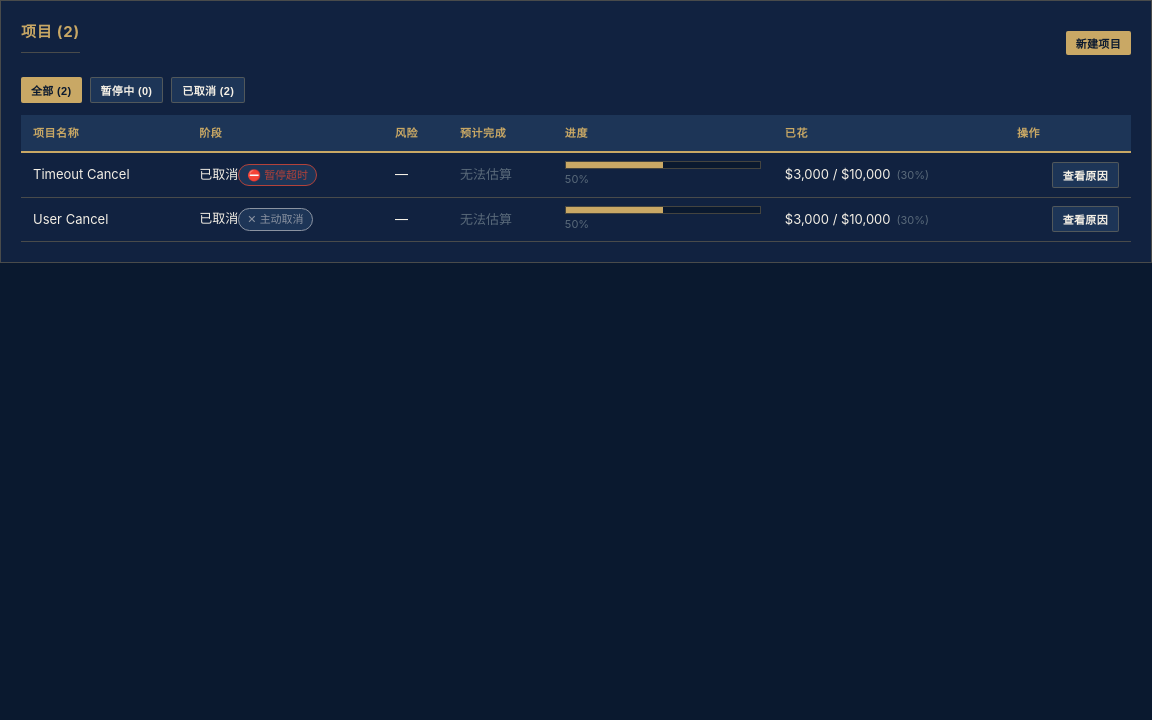
TASK-M1.1-UI-001 取消原因弹窗 › 从列表打开超时取消：代码 pause_timeout、仅一个关闭按钮、Esc 可关
Click the button "查看原因" in the row of "Timeout Cancel": x=1085, y=175 [1052,162,1119,188]
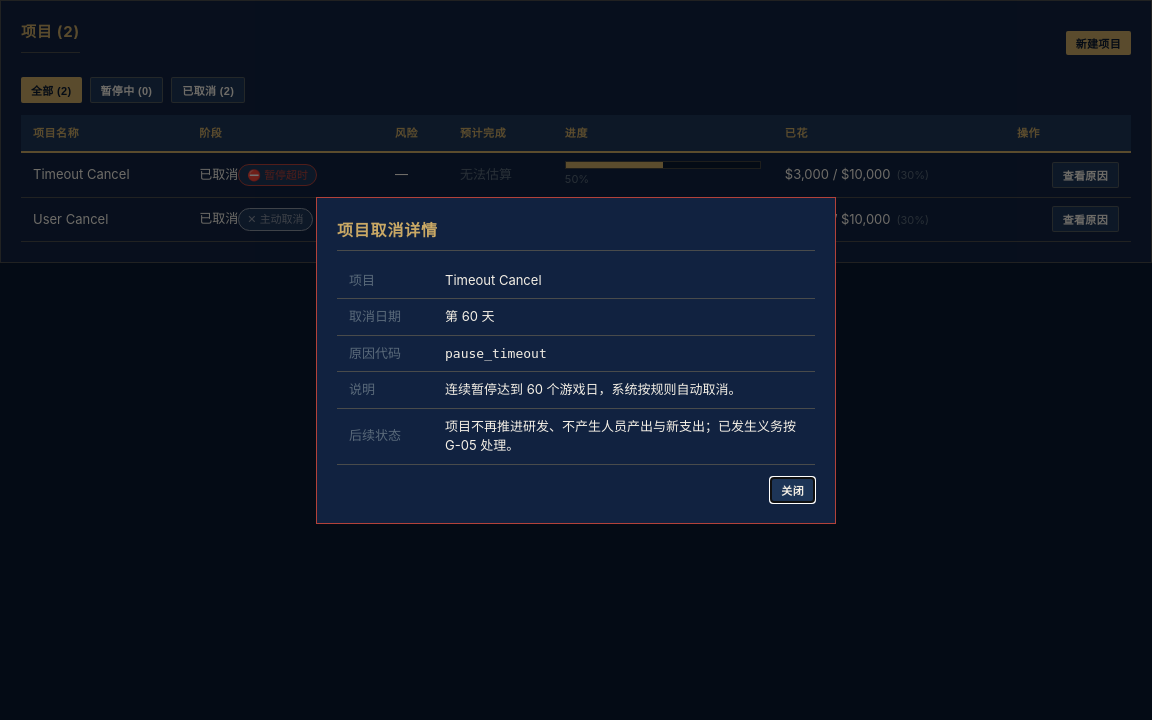
expect the heading "项目取消详情" is shown: met, box [337,218,815,250]
expect the text "pause_timeout" is shown: met, box [445,346,547,360]
expect the text "连续暂停达到 60 个游戏日，系统按规则自动取消。" is shown: met, box [433,372,815,408]
Press Escape
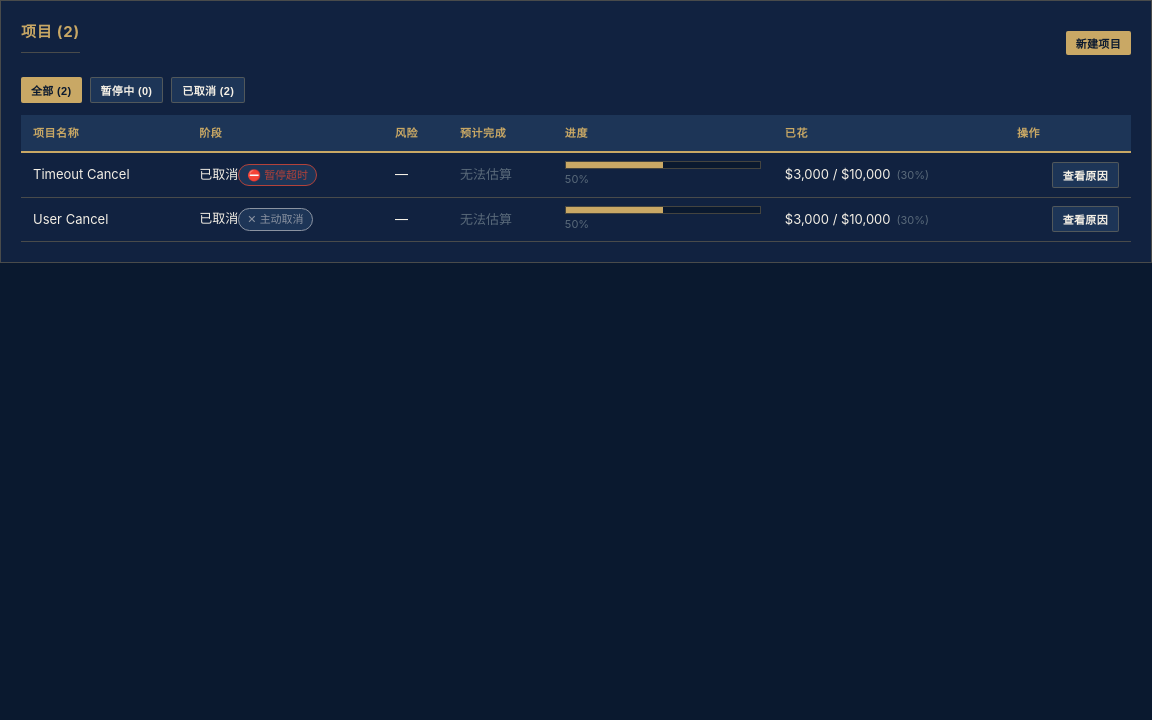
expect the dialog is gone: met
